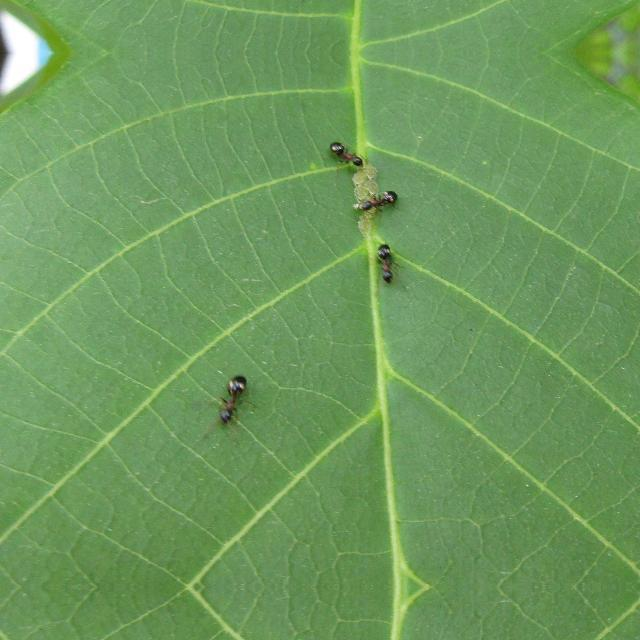Dolichoderus: (202, 364, 258, 430), (366, 236, 402, 284), (352, 184, 402, 216), (326, 134, 370, 170)
